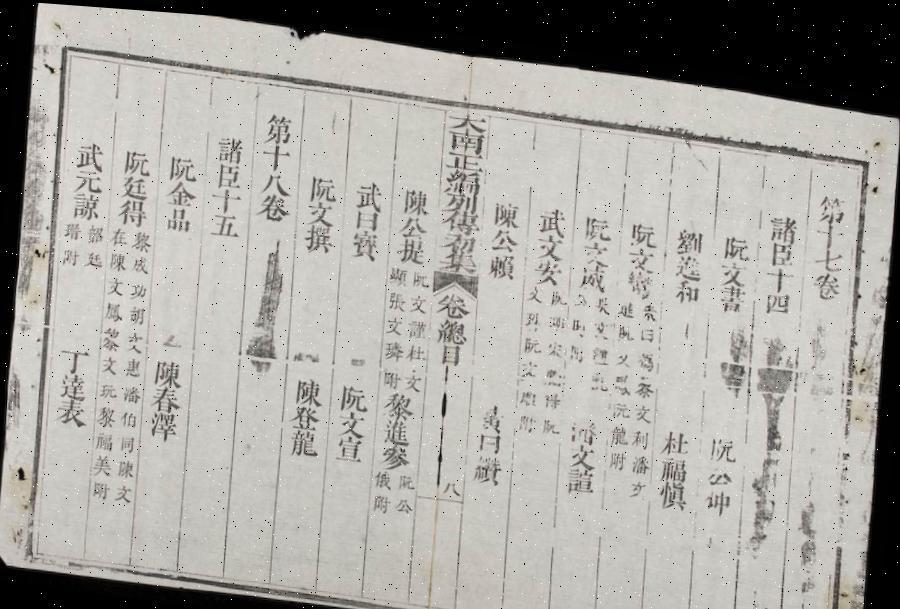c: (439, 198, 482, 230), (262, 104, 297, 142), (72, 135, 107, 169), (815, 178, 849, 213), (352, 170, 385, 206), (68, 187, 104, 220), (435, 283, 473, 314), (438, 223, 480, 251), (446, 119, 486, 148), (152, 352, 186, 386), (348, 222, 382, 256), (286, 421, 321, 454), (442, 160, 483, 188), (119, 143, 154, 175), (115, 194, 150, 226), (53, 394, 88, 426), (256, 187, 292, 218), (446, 101, 490, 126), (438, 240, 480, 266), (147, 406, 180, 439), (213, 128, 246, 161), (581, 202, 615, 234), (292, 368, 324, 402), (302, 217, 336, 249), (564, 456, 598, 488), (810, 256, 844, 288), (382, 383, 417, 414), (434, 308, 470, 338), (148, 382, 184, 412), (400, 178, 432, 211), (337, 375, 370, 407), (166, 148, 199, 180), (471, 445, 503, 478), (656, 468, 689, 500), (536, 195, 569, 227), (767, 200, 800, 232), (394, 228, 428, 259), (70, 165, 106, 194), (306, 167, 338, 199), (485, 243, 518, 274), (627, 208, 660, 239), (164, 176, 198, 206), (208, 206, 242, 236), (260, 136, 294, 166), (58, 342, 92, 372), (56, 368, 90, 398), (444, 142, 486, 166), (720, 219, 752, 250), (491, 189, 522, 221), (532, 248, 564, 279), (716, 272, 748, 303), (659, 416, 691, 447), (674, 213, 706, 244), (534, 223, 567, 253), (335, 403, 368, 433), (706, 422, 739, 452), (580, 229, 613, 259), (333, 428, 366, 458), (577, 254, 610, 284), (380, 411, 414, 440), (441, 183, 482, 207), (163, 202, 194, 233), (212, 157, 244, 187), (763, 252, 795, 282), (624, 258, 656, 288), (658, 444, 690, 474), (672, 242, 706, 270), (258, 164, 292, 192), (209, 182, 243, 210), (479, 392, 507, 426), (379, 436, 413, 464), (304, 194, 336, 223), (626, 235, 658, 264), (702, 475, 734, 504), (289, 398, 322, 426), (813, 209, 847, 236), (489, 218, 521, 246), (717, 248, 749, 276), (766, 228, 798, 256), (398, 206, 430, 234), (117, 171, 150, 198), (569, 408, 599, 437), (761, 278, 792, 306), (672, 266, 702, 294), (704, 454, 736, 480), (568, 433, 598, 460), (813, 233, 845, 258), (476, 422, 505, 447), (352, 202, 382, 226), (100, 322, 124, 350), (438, 335, 464, 360), (91, 450, 115, 476), (406, 310, 430, 335), (607, 412, 631, 437), (634, 364, 657, 390), (403, 360, 425, 387), (382, 332, 406, 356), (130, 226, 154, 250), (96, 401, 119, 426), (612, 361, 634, 387), (124, 325, 146, 351), (630, 416, 652, 440), (636, 339, 658, 363), (590, 334, 612, 358), (103, 296, 125, 320), (370, 484, 392, 508), (630, 443, 652, 466), (388, 258, 410, 281), (108, 223, 130, 246), (84, 220, 106, 243), (588, 360, 610, 383), (160, 327, 184, 348), (387, 282, 408, 306), (633, 390, 654, 414), (123, 352, 144, 376), (404, 335, 428, 356), (60, 242, 81, 266), (543, 355, 564, 379), (607, 439, 629, 461), (517, 404, 539, 426), (407, 286, 429, 308), (540, 406, 562, 428), (62, 217, 84, 239), (108, 248, 129, 271), (95, 427, 116, 450), (609, 389, 632, 410), (127, 300, 147, 324), (100, 350, 120, 374), (116, 454, 136, 478), (524, 299, 544, 323), (627, 468, 648, 490), (121, 380, 142, 402), (519, 379, 540, 401), (542, 381, 564, 402), (410, 262, 431, 284), (128, 276, 149, 298), (98, 377, 120, 398), (382, 360, 402, 383), (520, 349, 540, 372), (522, 326, 543, 347), (386, 308, 406, 330), (374, 462, 394, 484), (106, 272, 126, 294), (131, 251, 151, 273), (640, 291, 660, 313), (396, 464, 416, 486), (92, 476, 112, 498), (592, 308, 611, 331), (546, 329, 566, 350), (547, 303, 567, 324), (119, 406, 139, 427), (638, 314, 658, 335), (84, 246, 105, 266), (618, 288, 637, 310), (616, 312, 636, 332), (548, 279, 568, 299), (614, 339, 634, 359), (394, 488, 414, 508), (115, 480, 134, 501), (594, 284, 612, 306), (568, 332, 586, 354), (526, 276, 545, 296), (118, 430, 136, 451), (570, 306, 588, 327), (442, 471, 463, 489), (572, 281, 590, 300)
